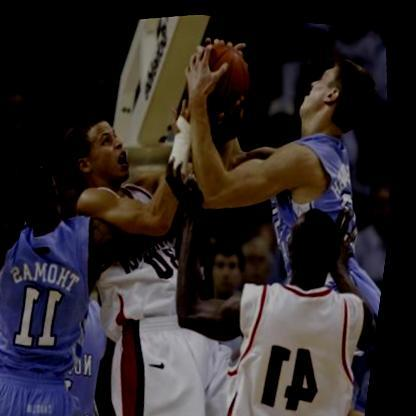basketball: (183, 28, 264, 115)
